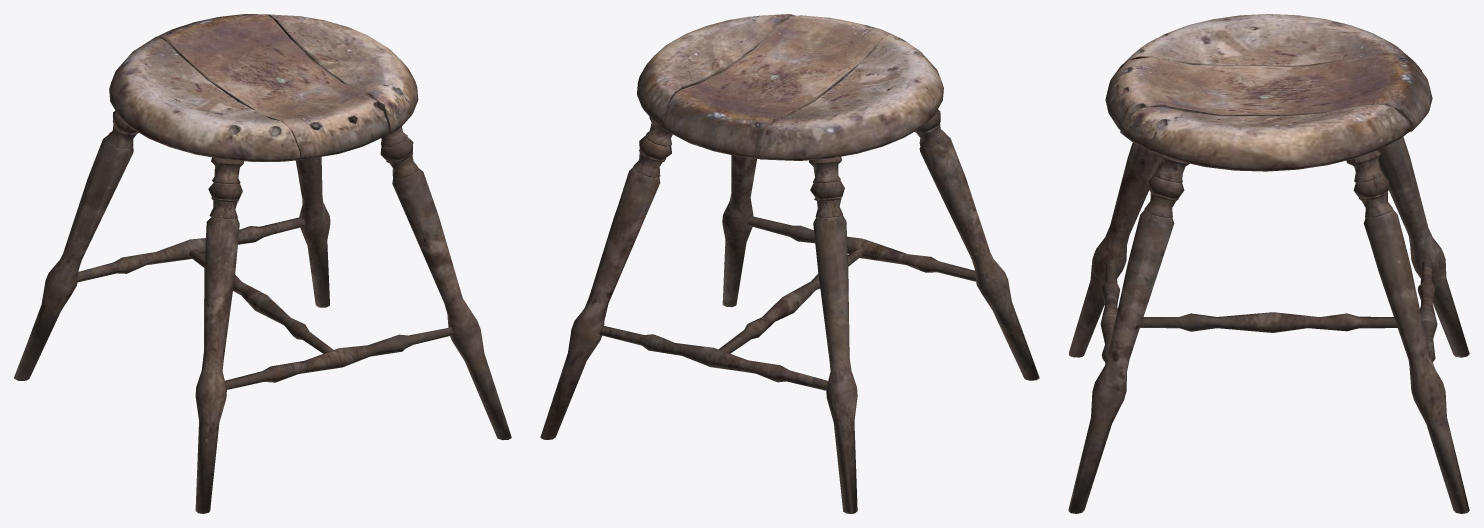
File: wooden_stool_01.glb
The picture shows the model from 3 angles, left to right: view 1: azimuth 30°, elevation 25°; view 2: azimuth 150°, elevation 25°; view 3: azimuth 270°, elevation 25°; orthographic projection. The views are drawn at different scales.
Visible parts, largest first — view 1: wooden_stool_01; view 2: wooden_stool_01; view 3: wooden_stool_01.
Part boxes in pixels (x1,y1,x2,y2): wooden_stool_01: (14,14,511,513); wooden_stool_01: (540,14,1039,513); wooden_stool_01: (1068,14,1469,513).
Bounding box in the file's own units: 0.4242 × 0.4373 × 0.4417.
Materials: 1 (1 with a texture image).
